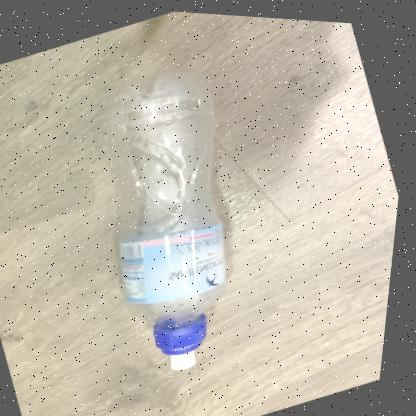Plastic: (108, 67, 231, 366)
